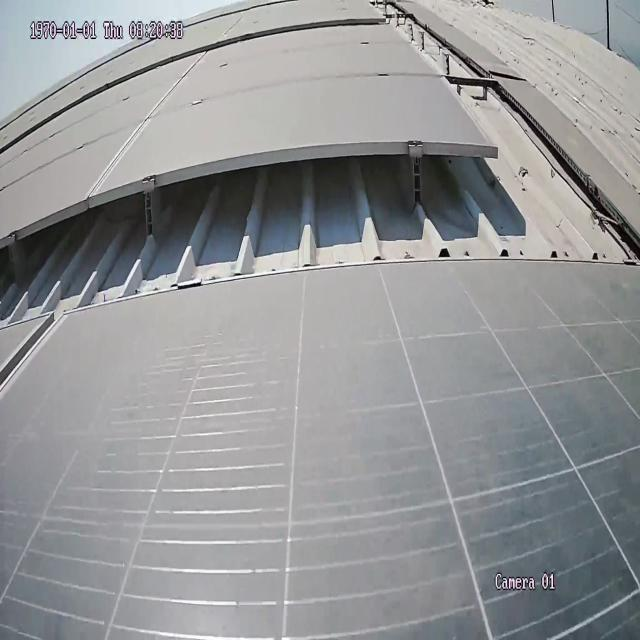outher panel: (0, 0, 640, 318)
